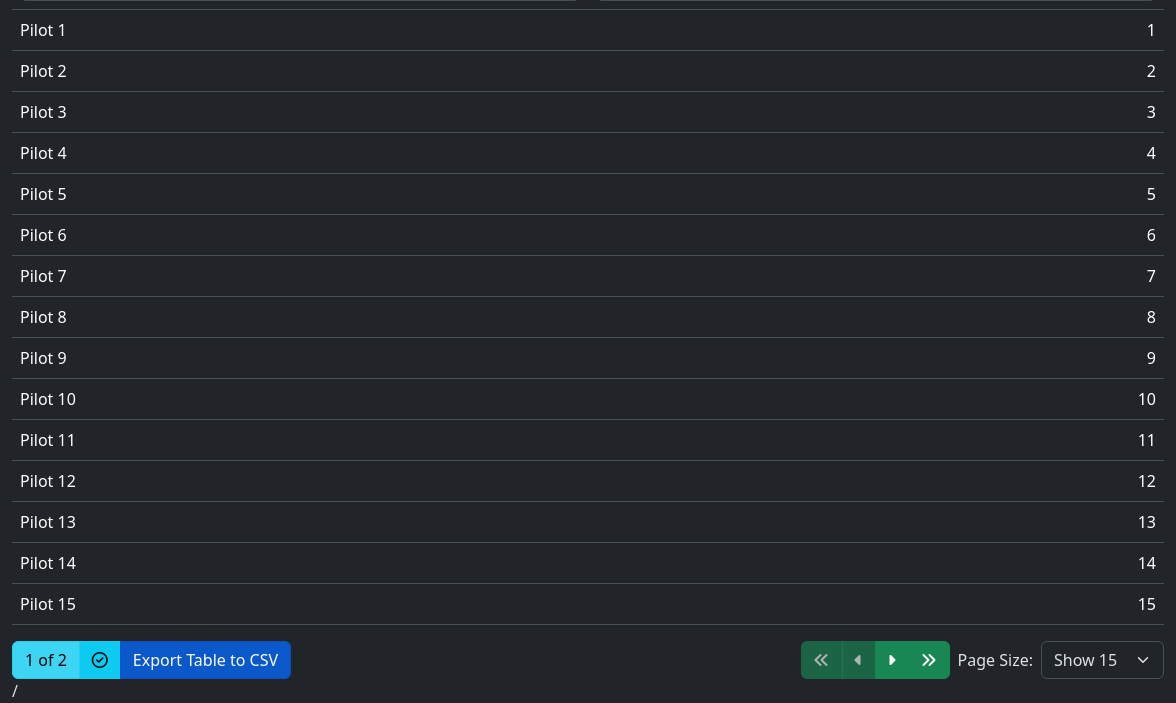
Test: BaseTable page on new data › still goes back to page 1 when sorted
(page scrolled)
What coordinates should you click on to do the following:
click the button with class "fa-caret-right"
I would click on:
 (892, 660)
Its box is x1=875 y1=641 x2=909 y2=679.
(page scrolled)
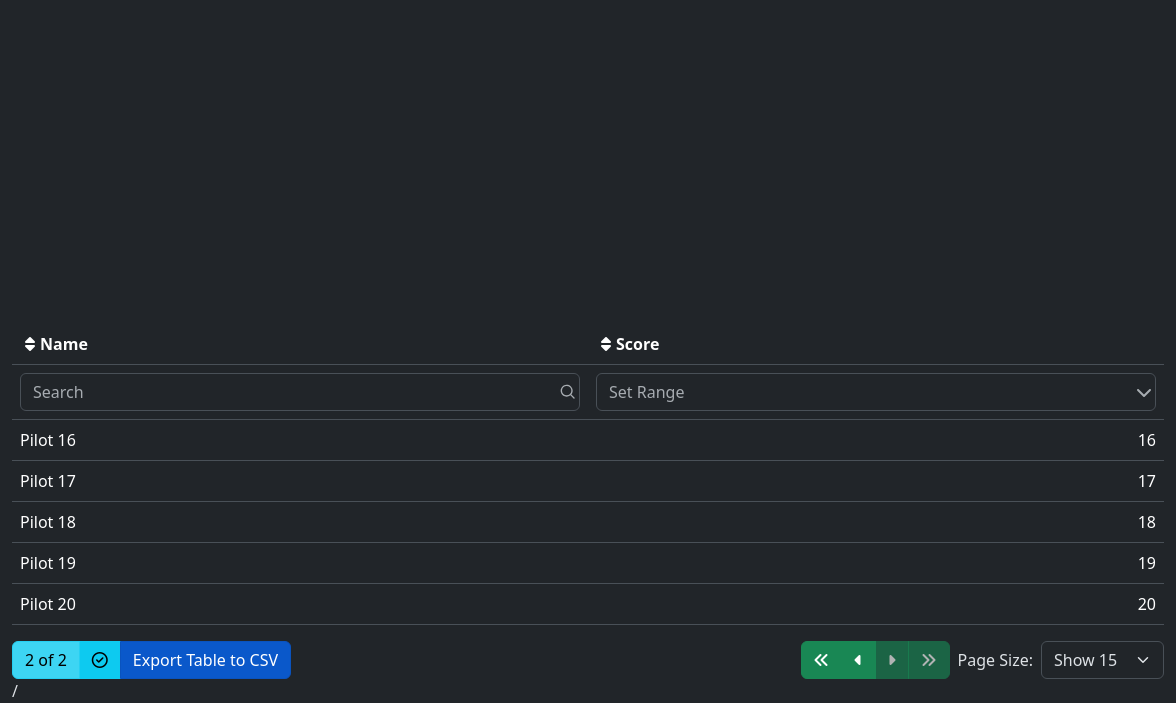
What coordinates should you click on to do the following:
click the text "Score"
I would click on:
 (628, 344)
Its box is x1=596 y1=333 x2=659 y2=355.
(page scrolled)
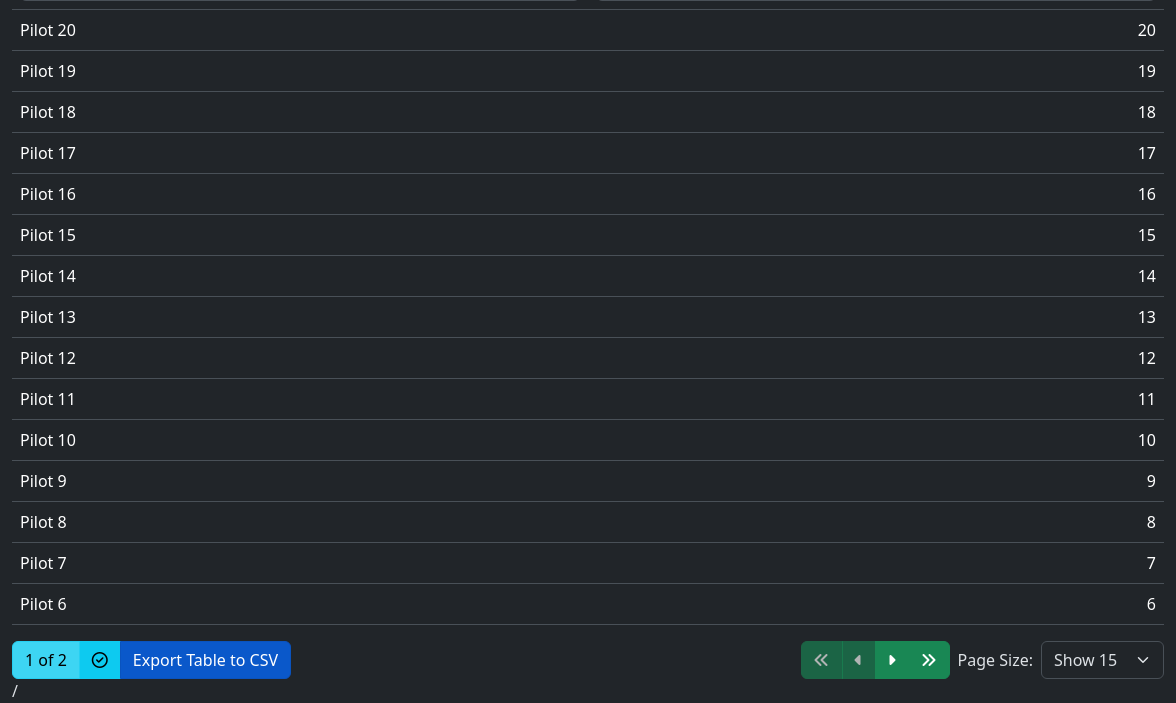
Expected: the button "1 of 2" is shown, x1=12 y1=641 x2=80 y2=679
